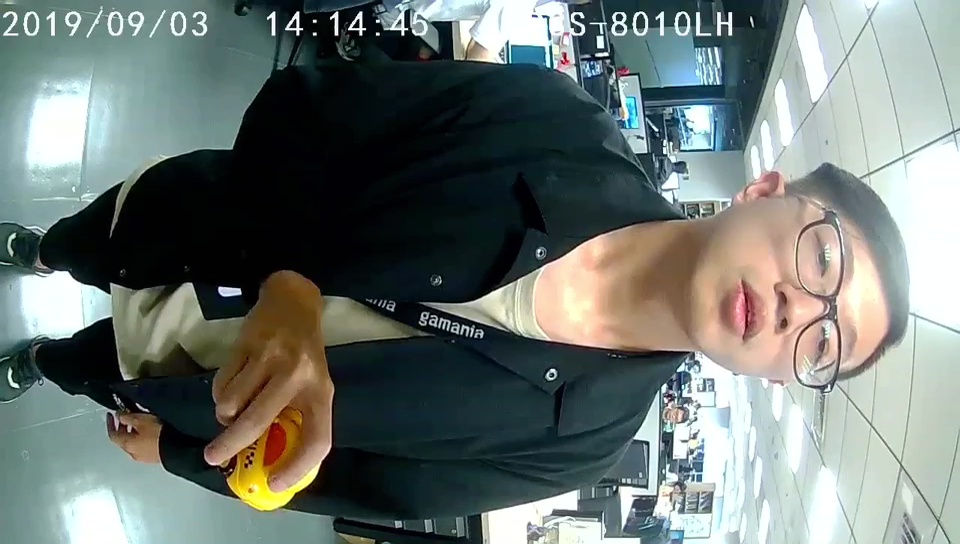car: (225, 408, 320, 511)
